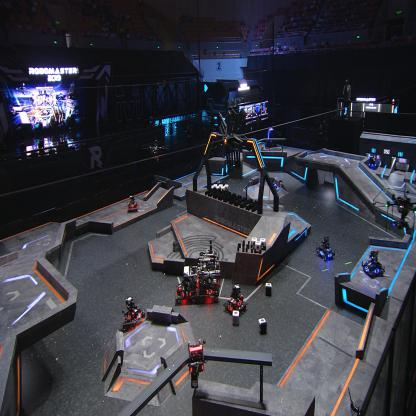car: (196, 249, 222, 301), (175, 265, 198, 303), (121, 297, 146, 330), (224, 283, 248, 317), (362, 249, 384, 279), (314, 234, 336, 262), (126, 194, 139, 214), (216, 179, 229, 199), (367, 153, 377, 169), (267, 177, 277, 191)
